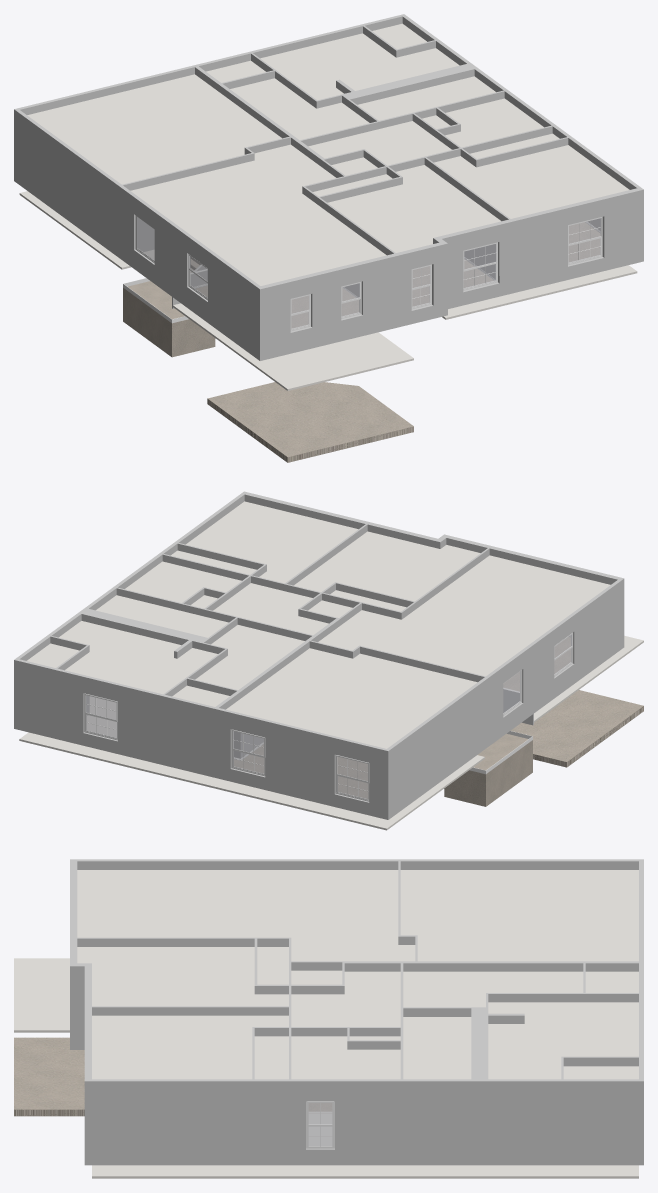
The model's file is KBH_Interior_model2345_1_MainGeo.glb.
3 renders of one model, top to bottom at view 1: azimuth 30°, elevation 25°; view 2: azimuth 150°, elevation 25°; view 3: azimuth 270°, elevation 25°, orthographic. The views are drawn at different scales.
Visible parts, largest first — view 1: Line23078, Line22718, Line23083, Line23071, Box6937, Line22725; view 2: Line23078, Line22718, Line23071, Line23083, Box6937, Line22725, Box7951, Box7954, Box7957, Box7036, Box7952, Box7955 (+1 smaller); view 3: Line23078, Line22718, Line23071, Line23083, Box7946, Box7948.
Boxes of the visible parts, x1,y1,x2,y2 form: Line23078: [27, 23, 629, 285]; Line22718: [14, 14, 643, 360]; Line23083: [207, 382, 413, 462]; Line23071: [19, 191, 637, 390]; Box6937: [123, 281, 215, 357]; Line22725: [196, 222, 600, 328]; Line23078: [27, 501, 610, 748]; Line22718: [14, 491, 624, 819]; Line23071: [19, 635, 643, 830]; Line23083: [510, 690, 643, 767]; Box6937: [444, 733, 532, 806]; Line22725: [234, 637, 570, 798]; Box7951: [86, 695, 116, 719]; Box7954: [233, 731, 263, 755]; Box7957: [337, 757, 367, 781]; Box7036: [503, 672, 520, 713]; Box7952: [233, 750, 264, 773]; Box7955: [337, 776, 368, 798]; Line23078: [77, 870, 638, 1079]; Line22718: [70, 859, 643, 1165]; Line23071: [14, 958, 638, 1178]; Line23083: [14, 1037, 84, 1116]; Box7946: [308, 1103, 332, 1124]; Box7948: [308, 1126, 332, 1145].
Size of the model in its own units: 21.6 by 8.3 by 25.9.
Materials: 7 (2 with a texture image).
